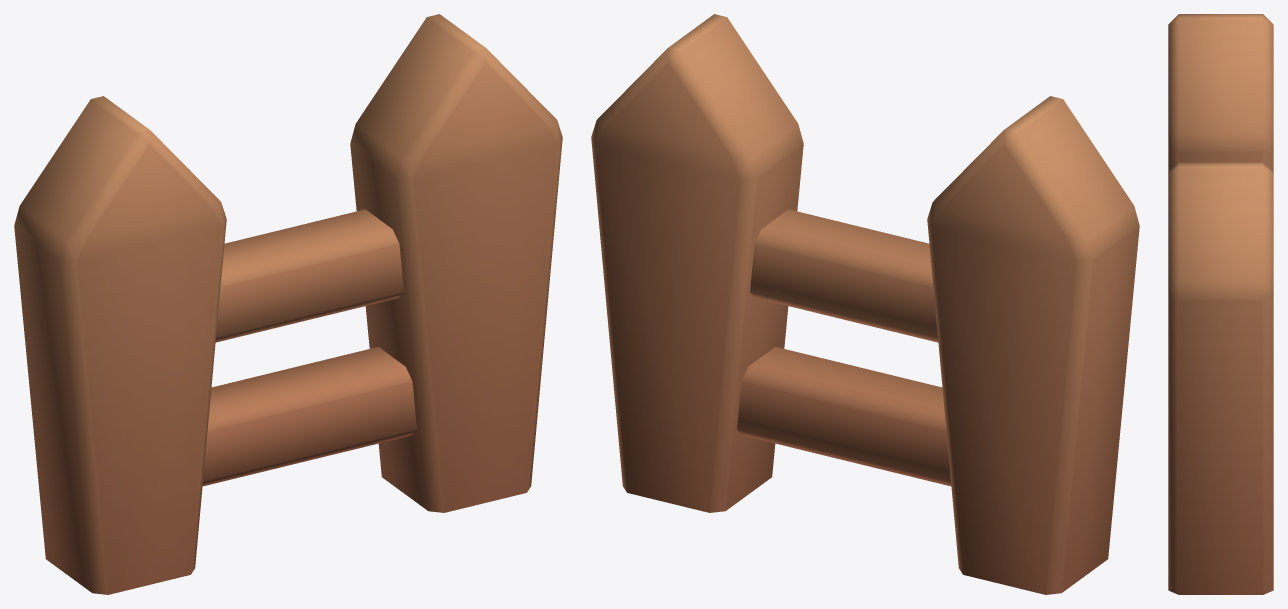
Rendered from Fence Straight.glb.
3 views of the same model, side by side, from view 1: azimuth 30°, elevation 25°; view 2: azimuth 150°, elevation 25°; view 3: azimuth 270°, elevation 25° (orthographic). The views are drawn at different scales.
Visible parts, largest first — view 1: fence_straight; view 2: fence_straight; view 3: fence_straight.
Boxes of the visible parts, x1=… form: fence_straight: x1=14, y1=14, x2=562, y2=594; fence_straight: x1=591, y1=14, x2=1139, y2=594; fence_straight: x1=1168, y1=14, x2=1273, y2=594.
Size of the model in its own units: 1.49 by 1.28 by 0.3.
1 material, 1 textured.
